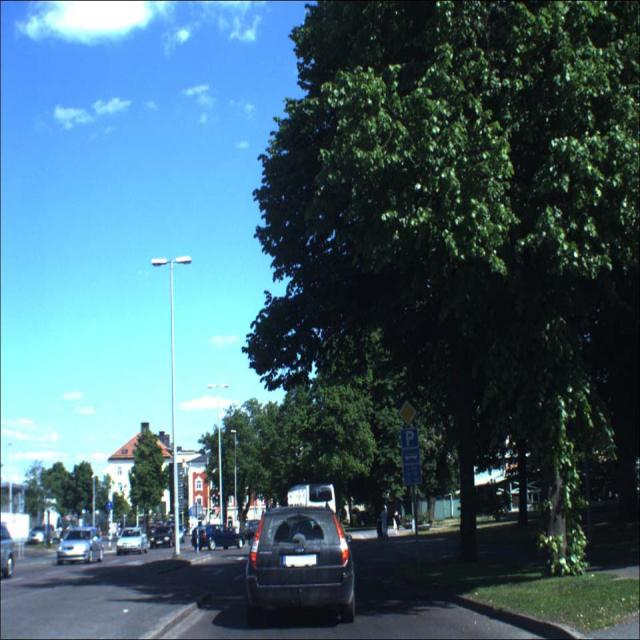park: (401, 428, 418, 448)
